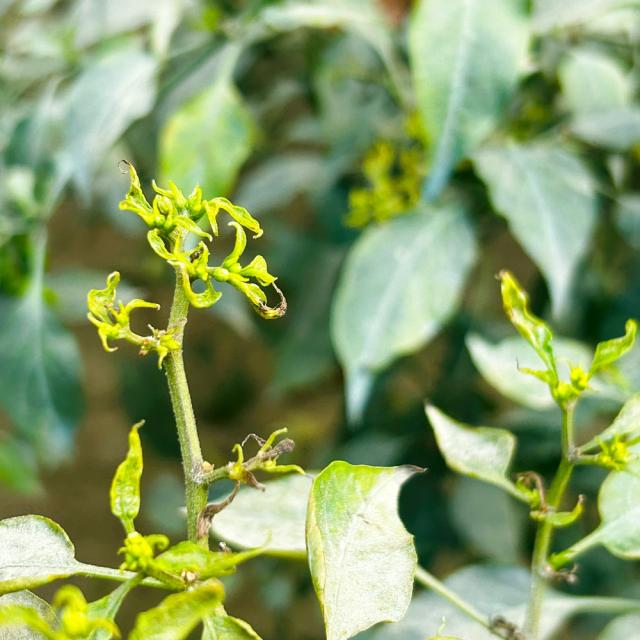Chilli_Leaf_Curl: (1, 158, 428, 638), (84, 157, 290, 548), (424, 268, 638, 638), (1, 419, 270, 638), (115, 157, 288, 320), (303, 458, 429, 639), (493, 268, 637, 410), (422, 399, 537, 508), (85, 270, 183, 370), (108, 418, 146, 531)
